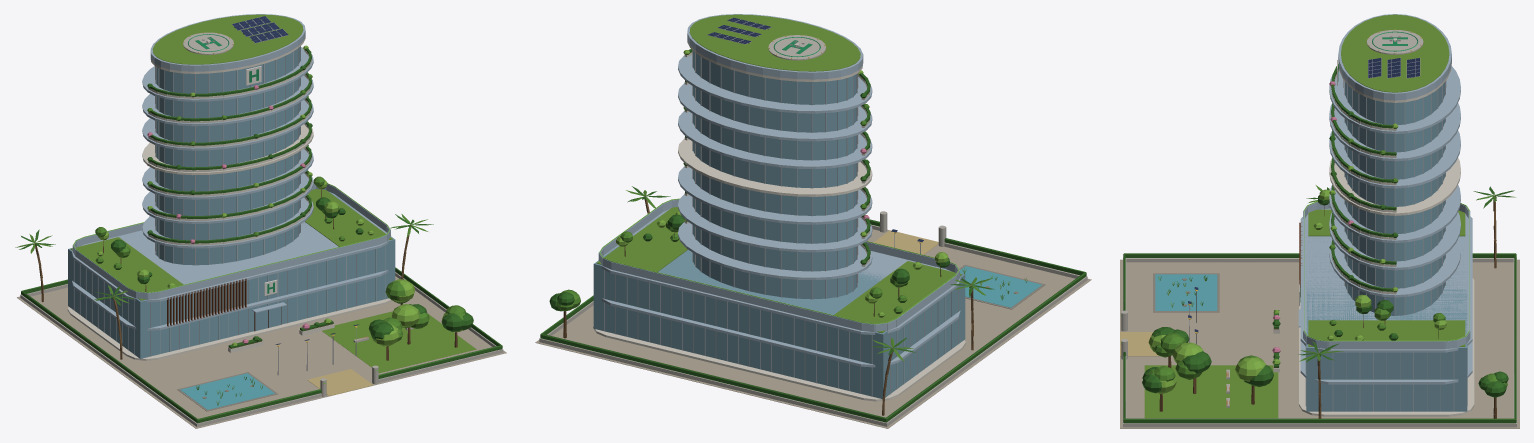
The model's file is hospital.glb.
3 views of the same model, side by side, from view 1: azimuth 30°, elevation 25°; view 2: azimuth 150°, elevation 25°; view 3: azimuth 270°, elevation 25° (orthographic). The views are drawn at different scales.
Visible parts, largest first — view 1: body, windows; view 2: body, windows; view 3: body, windows.
Boxes of the visible parts, x1=… form: body: x1=15, y1=14, x2=506, y2=428; windows: x1=73, y1=32, x2=390, y2=383; body: x1=535, y1=14, x2=1091, y2=428; windows: x1=599, y1=35, x2=959, y2=324; body: x1=1120, y1=14, x2=1519, y2=428; windows: x1=1121, y1=29, x2=1469, y2=344.
Size of the model in its own units: 51.56 by 39.01 by 47.9.
